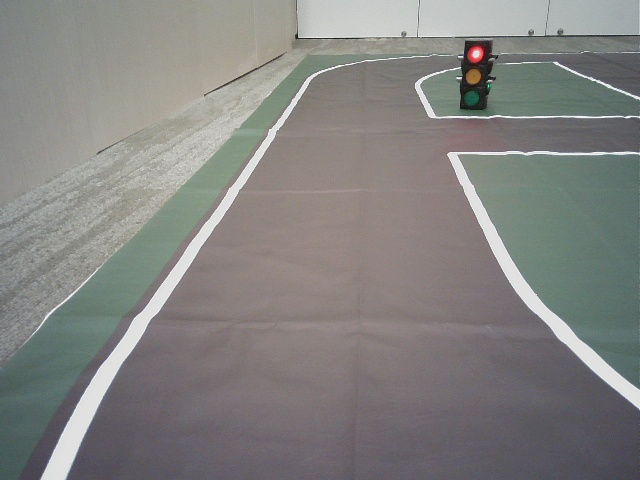red: (464, 40, 482, 107)
